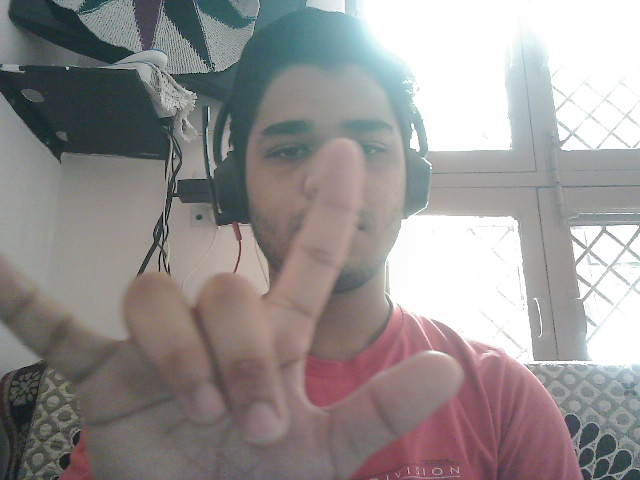I Love You: (13, 132, 497, 480)
